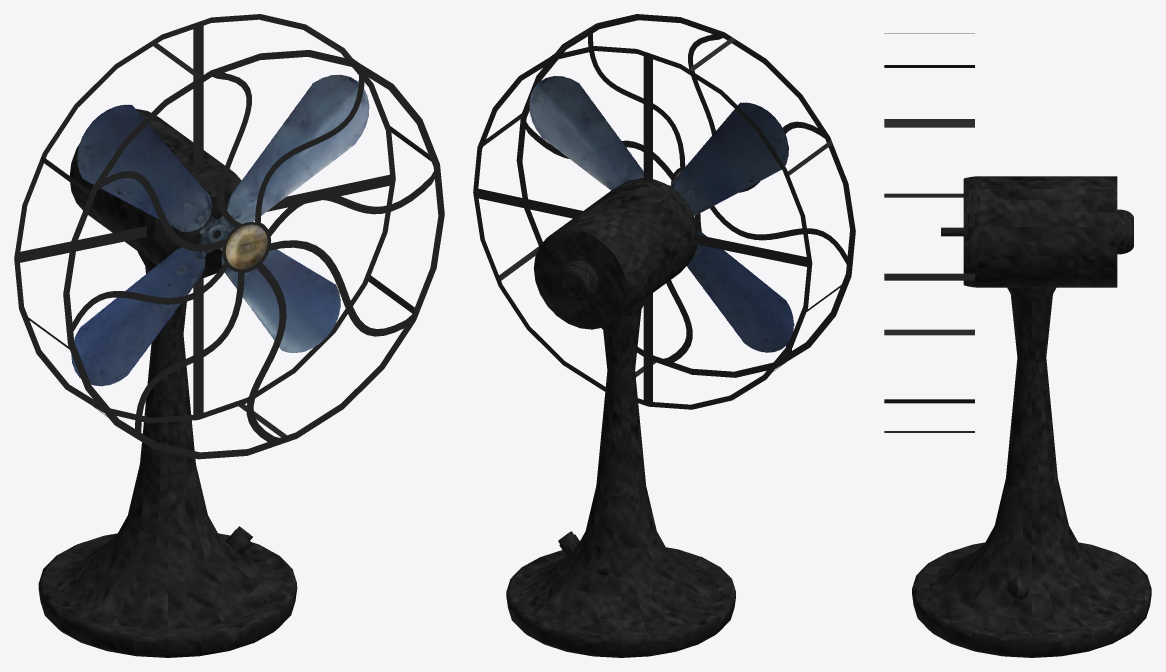
File: Fan.FBX
3 views of the same model, side by side, from view 1: azimuth 30°, elevation 25°; view 2: azimuth 150°, elevation 25°; view 3: azimuth 270°, elevation 25° (orthographic). The views are drawn at different scales.
Visible parts, largest first — view 1: Mesh3, Mesh1, Mesh2; view 2: Mesh3, Mesh1, Mesh2; view 3: Mesh1, Mesh3, Mesh2, Mesh4.
Boxes of the visible parts, left/top/right/bottom form: Mesh3: left=69, top=74, right=369, bottom=386; Mesh1: left=38, top=251, right=297, bottom=657; Mesh2: left=14, top=14, right=444, bottom=459; Mesh3: left=529, top=76, right=794, bottom=352; Mesh1: left=506, top=296, right=735, bottom=657; Mesh2: left=473, top=14, right=855, bottom=409; Mesh1: left=912, top=287, right=1151, bottom=657; Mesh3: left=941, top=176, right=1133, bottom=287; Mesh2: left=884, top=33, right=974, bottom=432; Mesh4: left=1007, top=575, right=1028, bottom=600.
Size of the model in its own units: 42.95 by 65.37 by 28.12.
4 materials, 3 textured.
